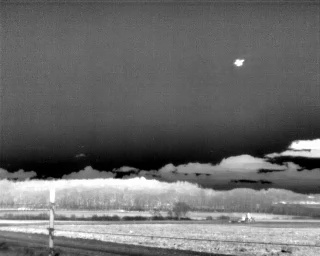DRONE: (231, 55, 248, 72)
